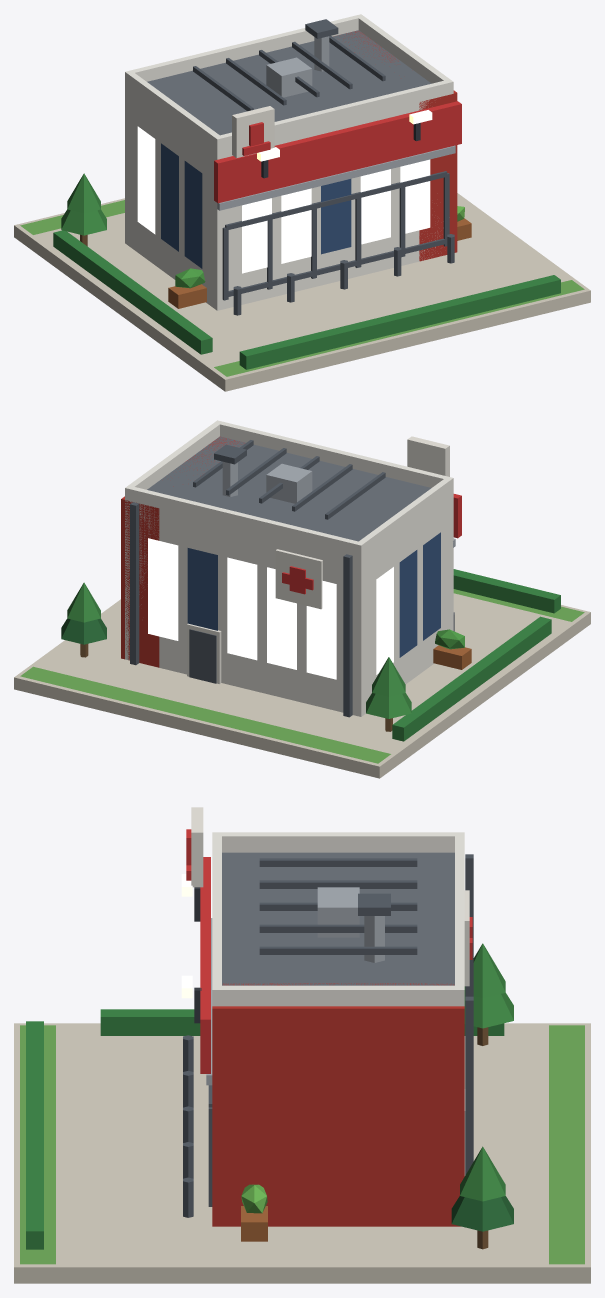
3 renders of one model, top to bottom at view 1: azimuth 30°, elevation 25°; view 2: azimuth 150°, elevation 25°; view 3: azimuth 270°, elevation 25°, orthographic. The views are drawn at different scales.
Visible parts, largest first — view 1: b15; view 2: b15; view 3: b15.
Part boxes in pixels (x1=…): b15: x1=14, y1=14, x2=590, y2=391; b15: x1=14, y1=420, x2=590, y2=778; b15: x1=14, y1=807, x2=590, y2=1283.
Bounding box in the file's own units: 0.96 × 0.535 × 0.96.
